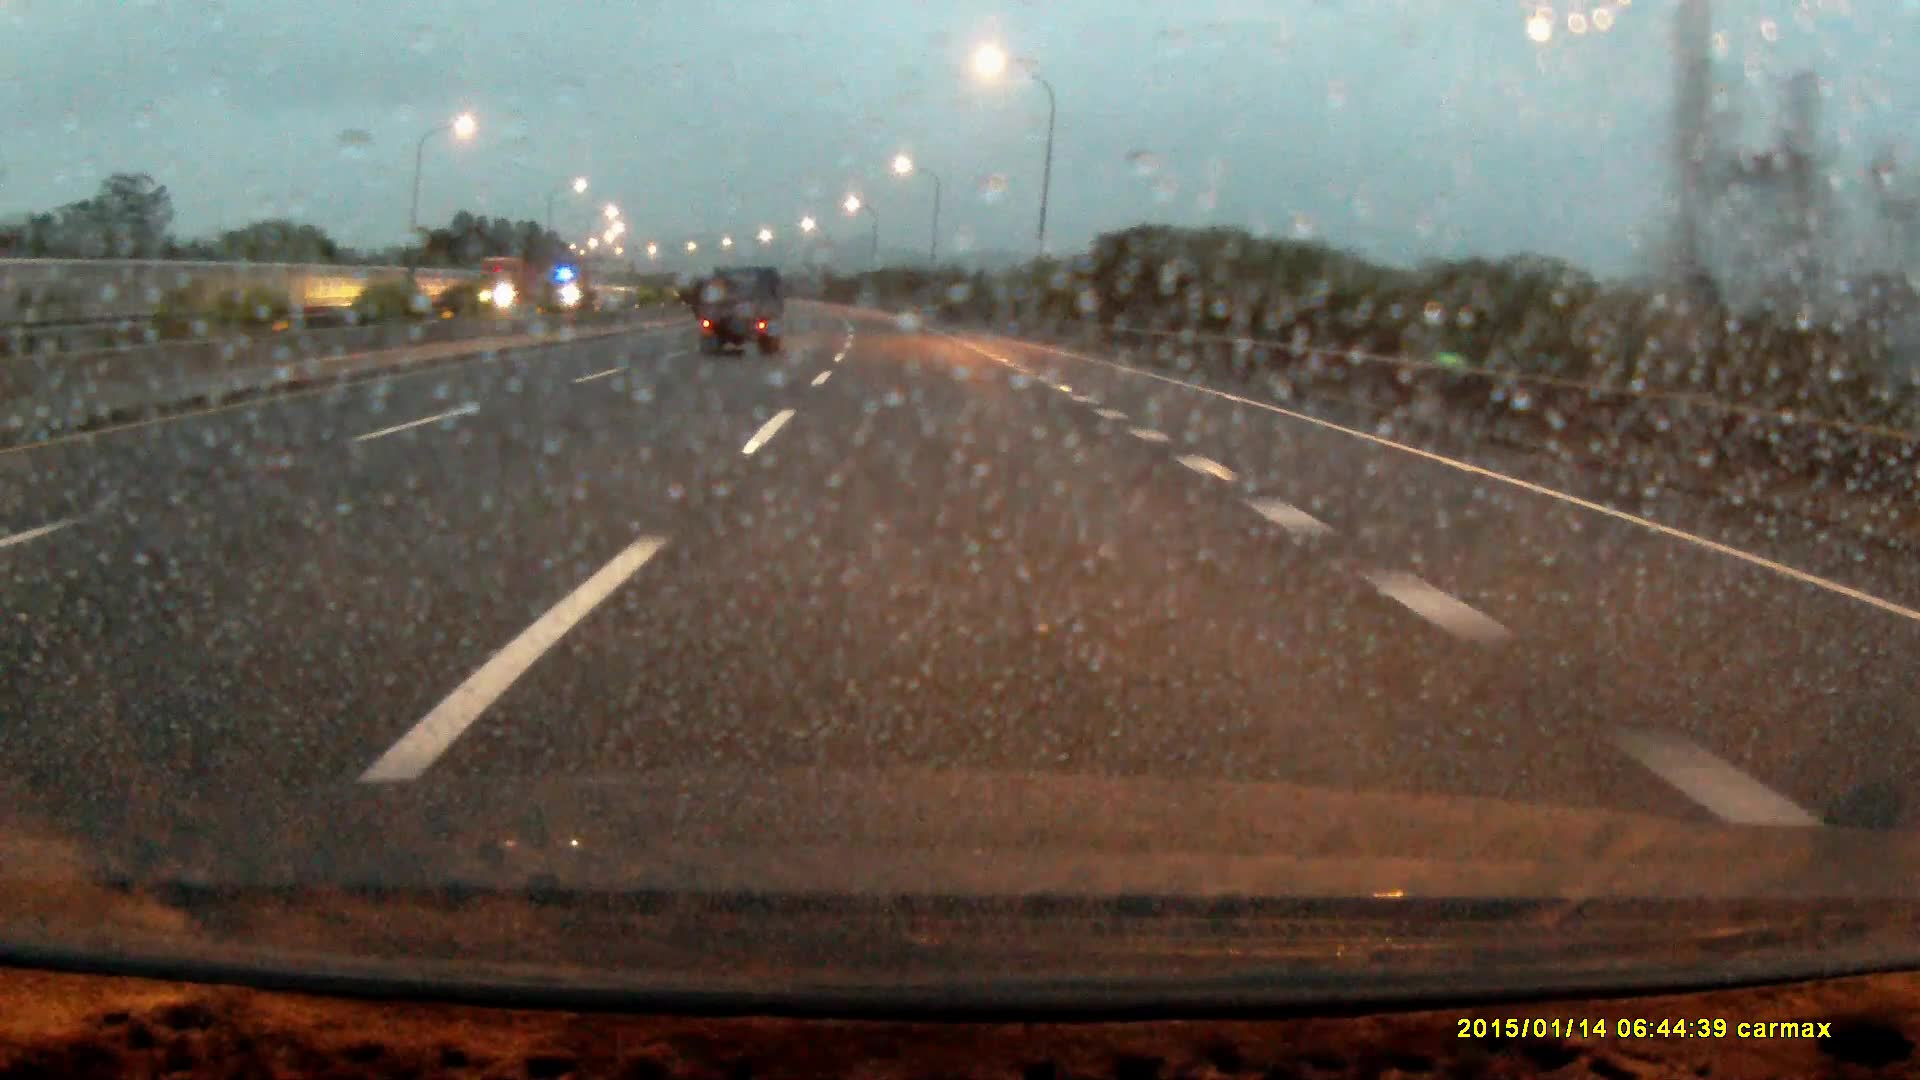vehicle: (702, 266, 782, 360), (475, 252, 541, 309)
